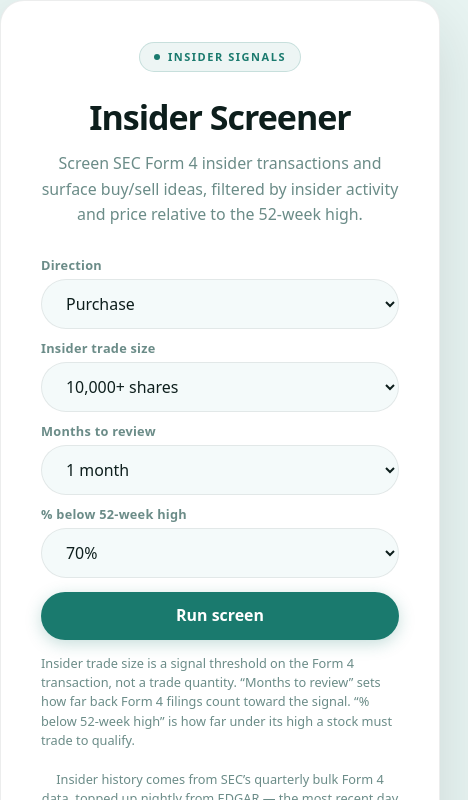
InsiderScreener copy › names the review window once a screen has run, matching the selection
This screenshot has width=468, height=800.
Select "3 months" in the dropdown with id "selScreenerMonths": coordinates (220, 470) [41, 445, 399, 495]
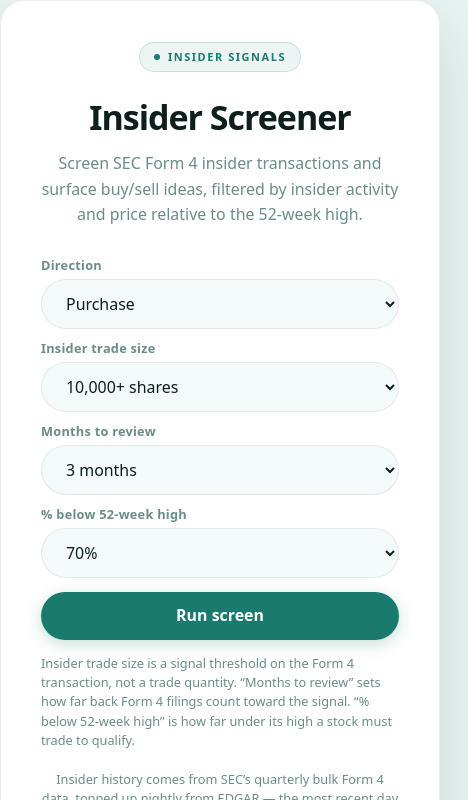
Click the button "Run screen": coordinates (220, 616) [41, 592, 399, 640]
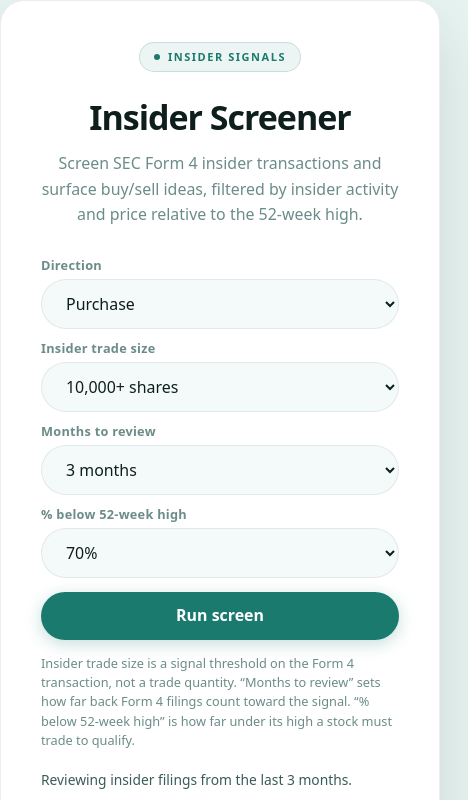
Expected: the text with id "lblScreenerWindow" reads "Reviewing insider filings from the last 3 months.", [41, 770, 399, 790]
